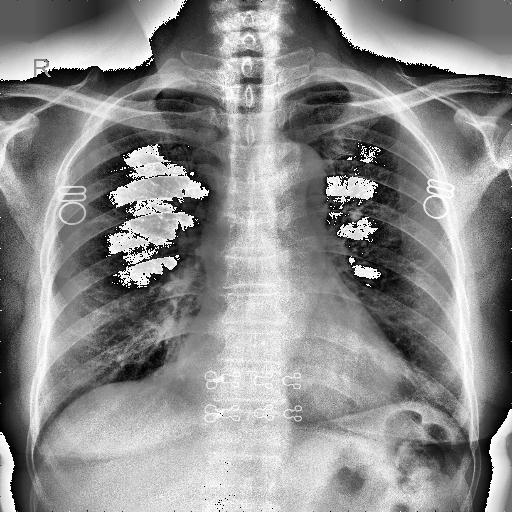0- Aortic enlargement: (260, 139, 328, 217), (245, 141, 327, 202), (268, 140, 326, 204)
3- Cardiomegaly: (164, 335, 428, 412), (165, 344, 408, 416), (174, 336, 415, 408)
